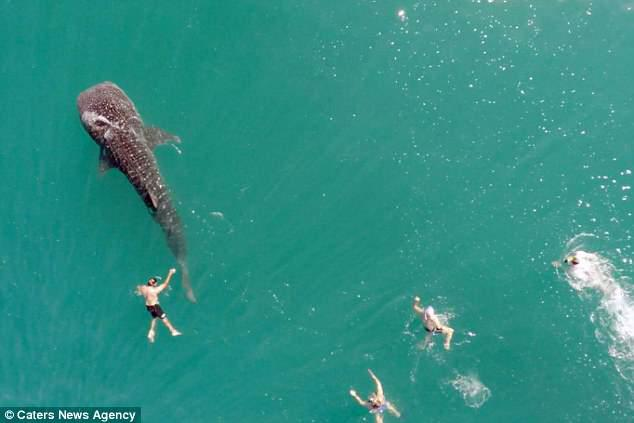human: (134, 268, 182, 346), (348, 368, 401, 422), (412, 293, 454, 353)
